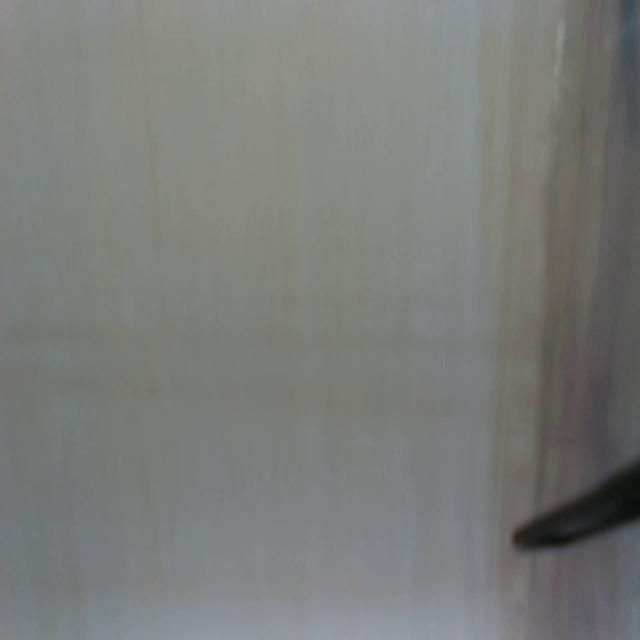color bleeding: (489, 0, 640, 471)
